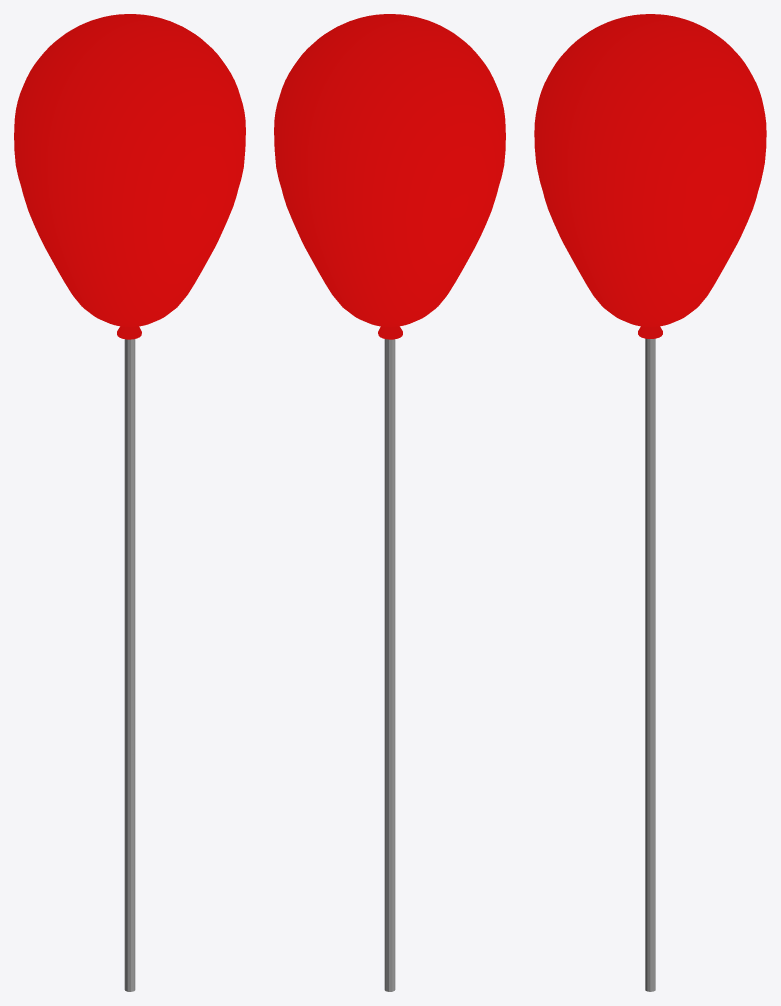
The model's file is balloons.fbx.
3 views of the same model, side by side, from view 1: azimuth 30°, elevation 25°; view 2: azimuth 150°, elevation 25°; view 3: azimuth 270°, elevation 25° (orthographic).
Visible parts, largest first — view 1: Balloon; view 2: Balloon; view 3: Balloon.
Part boxes in pixels (x1,y1,x2,y2): Balloon: (14,14,245,991); Balloon: (274,14,505,991); Balloon: (534,14,766,991).
Bounding box in the file's own units: 2624 × 12035 × 2624.
